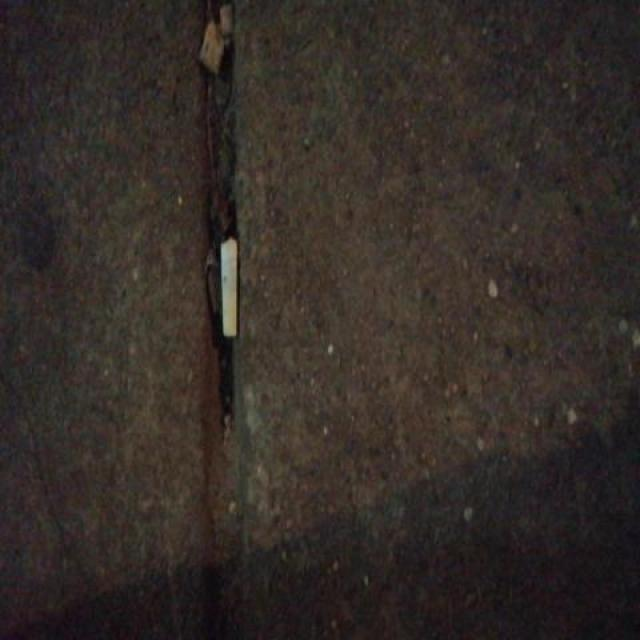non-organic waste: (218, 233, 242, 344)
